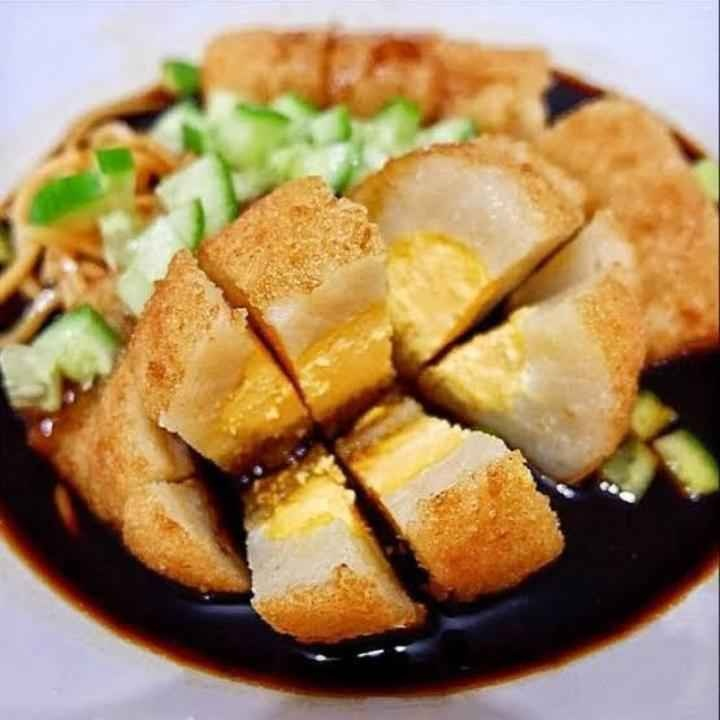pempek: (74, 73, 703, 646)
